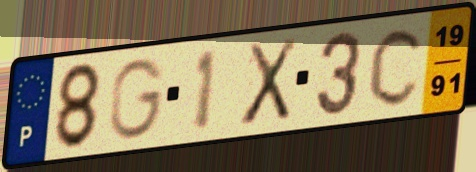1: (192, 45, 219, 135)
3: (311, 30, 362, 118)
8: (52, 60, 104, 152)
C: (365, 24, 428, 110)
G: (108, 55, 169, 143)
X: (237, 34, 301, 131)
